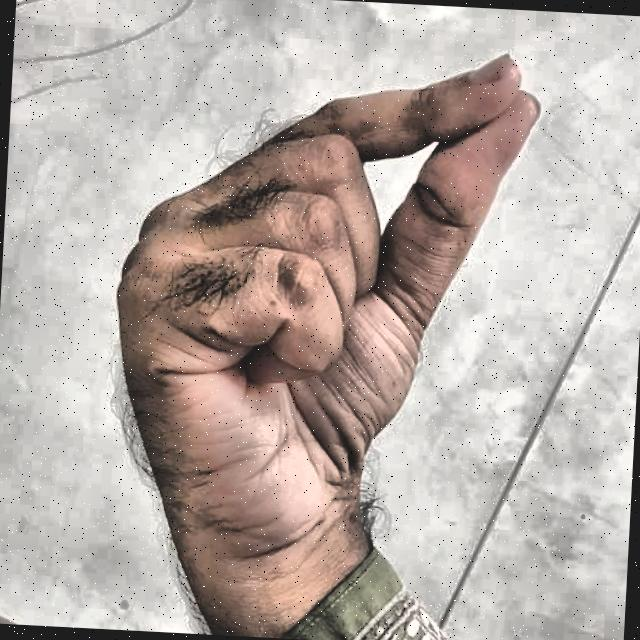Anusshar: (74, 11, 560, 619)
